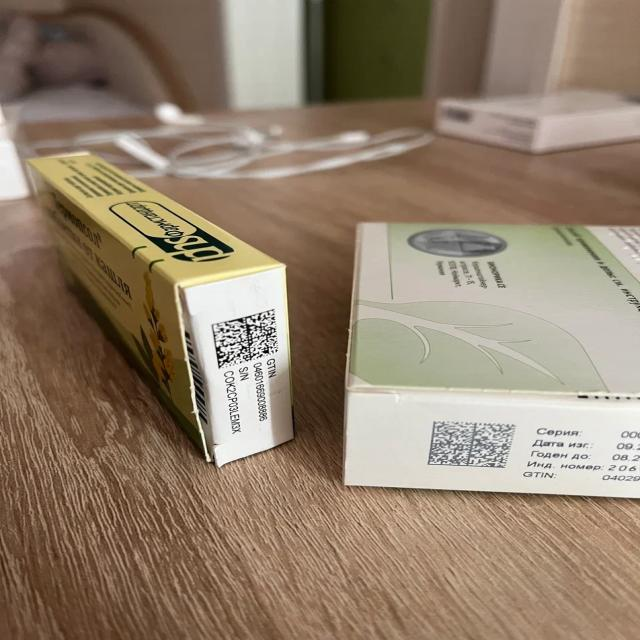datamatrix: (427, 419, 518, 470), (212, 308, 280, 370)
